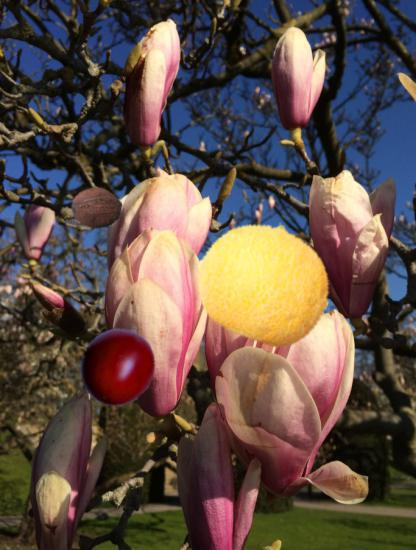Cantaloupe: (197, 214, 333, 350)
Cocos: (71, 182, 123, 234)
Tamarillo: (75, 317, 166, 408)
